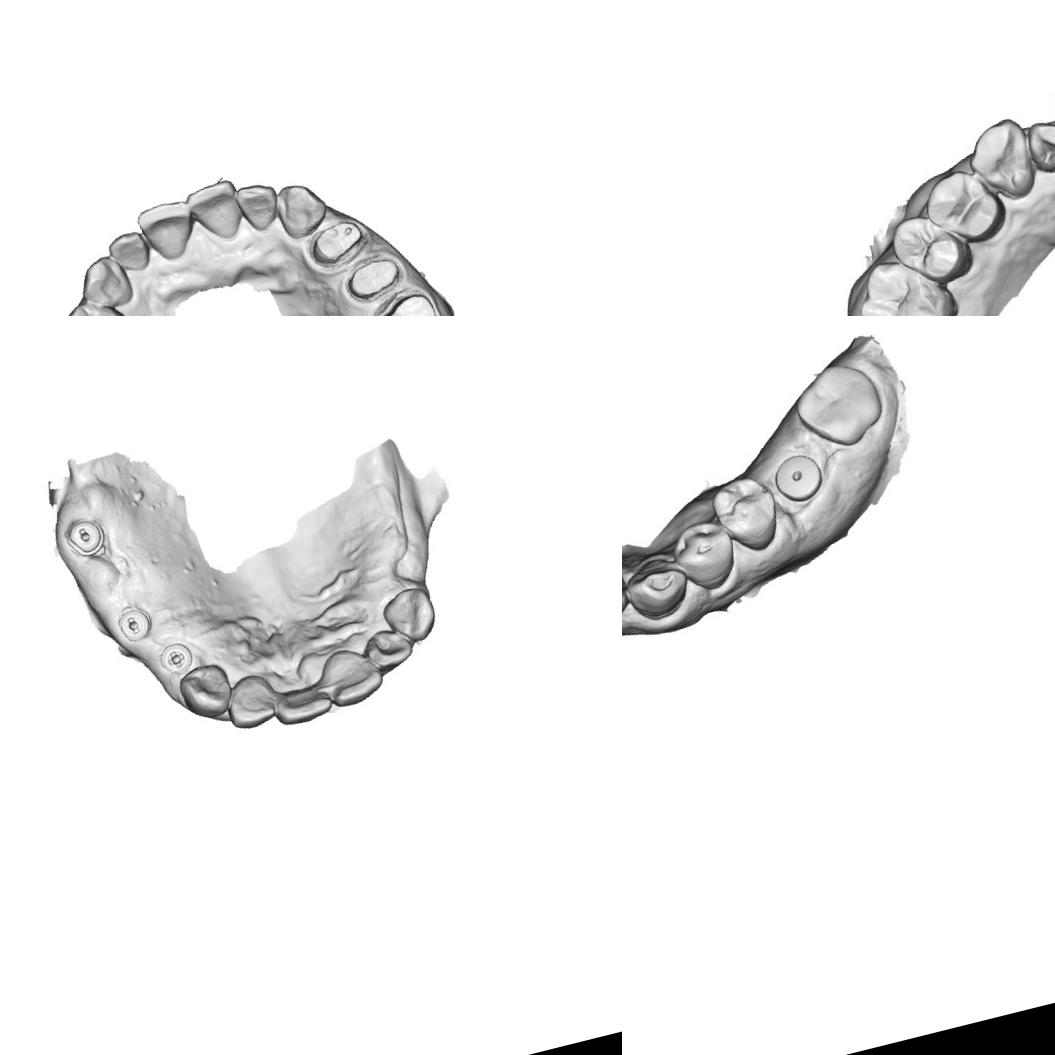canine: (961, 113, 1042, 208), (622, 552, 698, 626), (268, 176, 333, 242), (376, 582, 441, 648), (73, 249, 136, 316), (174, 658, 237, 723)
crown: (338, 250, 406, 306), (303, 215, 370, 271), (364, 284, 449, 316)
implant: (771, 448, 826, 504)
implant_minus: (61, 514, 110, 562), (112, 600, 156, 644)
implant_plus: (152, 636, 198, 681)
incisor: (314, 640, 388, 710), (180, 175, 248, 248), (133, 195, 201, 265), (219, 669, 279, 733), (230, 176, 284, 236), (271, 682, 334, 728), (361, 622, 416, 674), (104, 227, 154, 276), (1020, 110, 1055, 176), (622, 562, 638, 626)
molar: (784, 350, 892, 459), (844, 249, 968, 316)
premolar: (916, 164, 1008, 253), (886, 204, 972, 294), (671, 518, 741, 592), (714, 476, 782, 550), (53, 291, 135, 316)
